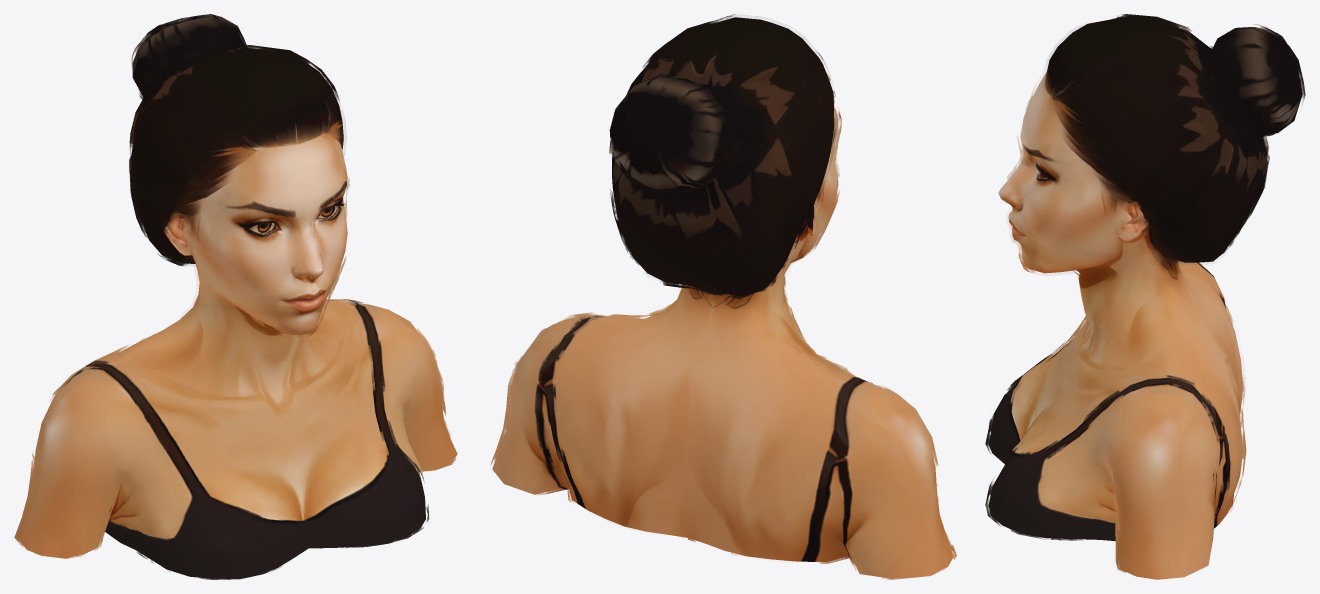
The picture shows the model from 3 angles, left to right: view 1: azimuth 30°, elevation 25°; view 2: azimuth 150°, elevation 25°; view 3: azimuth 270°, elevation 25°; orthographic projection. The views are drawn at different scales.
Visible parts, largest first — view 1: female body, female body outline; view 2: female body, female body outline; view 3: female body, female body outline.
Part boxes in pixels (<box>): female body: <box>19,17,457,578</box>; female body outline: <box>14,14,456,579</box>; female body: <box>492,17,953,578</box>; female body outline: <box>490,14,956,579</box>; female body: <box>988,17,1302,579</box>; female body outline: <box>985,14,1305,577</box>.
Size of the model in its own units: 0.4725 by 0.4774 by 0.305.
Materials: 3 (3 with a texture image).
